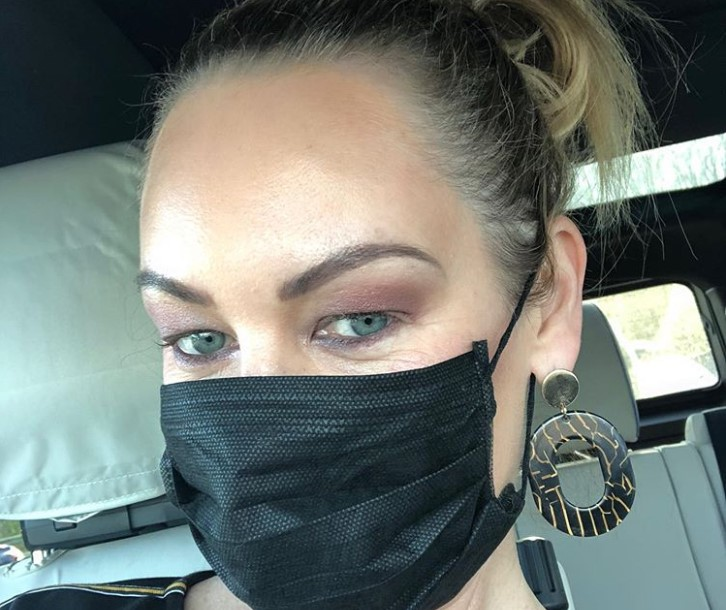face_with_mask: (131, 7, 581, 601)
